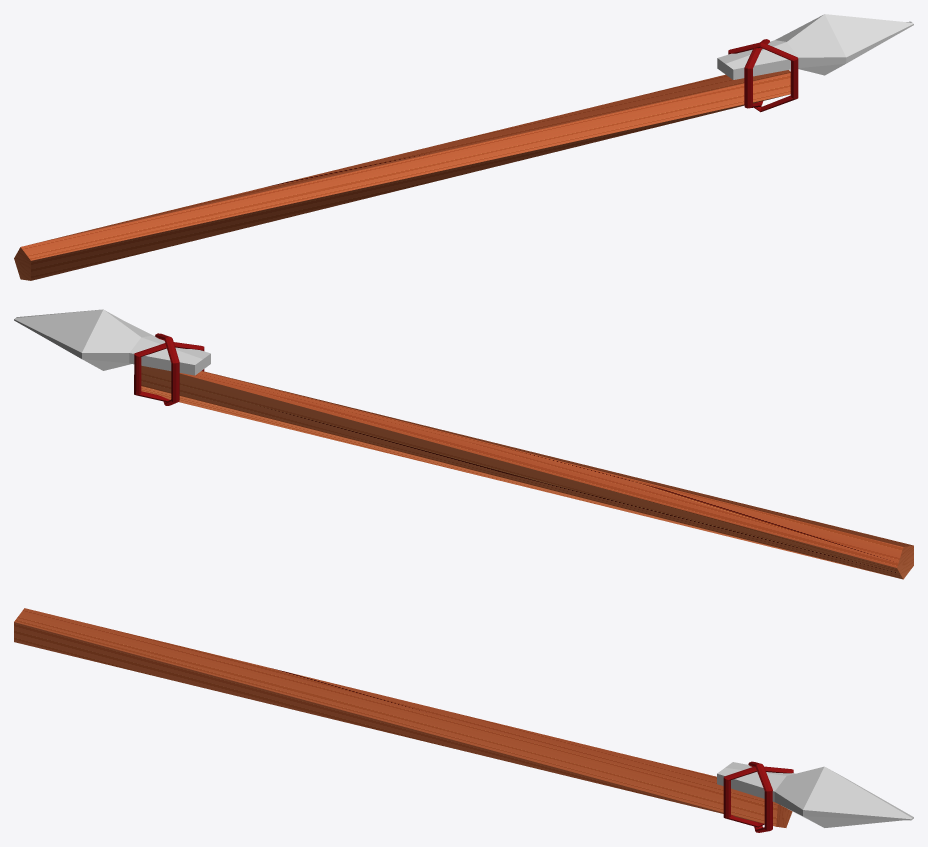
Rendered from Javelin_model.fbx.
3 views of the same model, one above another, from view 1: azimuth 30°, elevation 25°; view 2: azimuth 150°, elevation 25°; view 3: azimuth 330°, elevation 25° (orthographic).
Visible parts, largest first — view 1: Cylinder, Cube, Cube.004; view 2: Cylinder, Cube, Cube.004; view 3: Cylinder, Cube, Cube.004.
Boxes of the visible parts, box(x1,y1,x2,y2) form: Cylinder: box(14, 70, 790, 280); Cube: box(717, 14, 913, 79); Cube.004: box(728, 39, 798, 112); Cylinder: box(141, 365, 913, 579); Cube: box(14, 309, 210, 375); Cube.004: box(134, 333, 204, 405); Cylinder: box(14, 608, 792, 827); Cube: box(717, 762, 913, 827); Cube.004: box(723, 761, 793, 832).
Size of the model in its own units: 4308 by 377 by 361.
3 materials, 1 textured.
